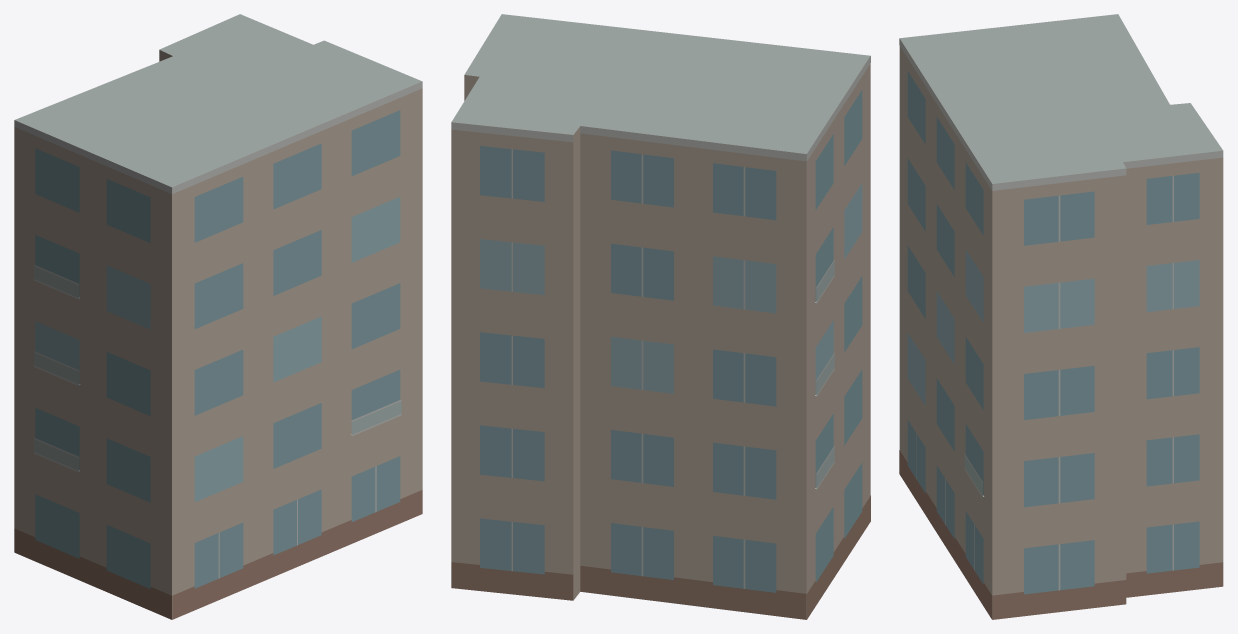
The model's file is survey-upis-32662061.glb.
3 views of the same model, side by side, from view 1: azimuth 30°, elevation 25°; view 2: azimuth 150°, elevation 25°; view 3: azimuth 270°, elevation 25° (orthographic). The views are drawn at different scales.
Visible parts, largest first — view 1: survey-upis-32662061.tmp; view 2: survey-upis-32662061.tmp; view 3: survey-upis-32662061.tmp.
Part boxes in pixels (box(x1,y1,x2,y2)): survey-upis-32662061.tmp: box(14, 14, 422, 619); survey-upis-32662061.tmp: box(451, 14, 870, 619); survey-upis-32662061.tmp: box(899, 14, 1223, 619).
Bounding box in the file's own units: 12.98 × 15.5 × 10.45.
